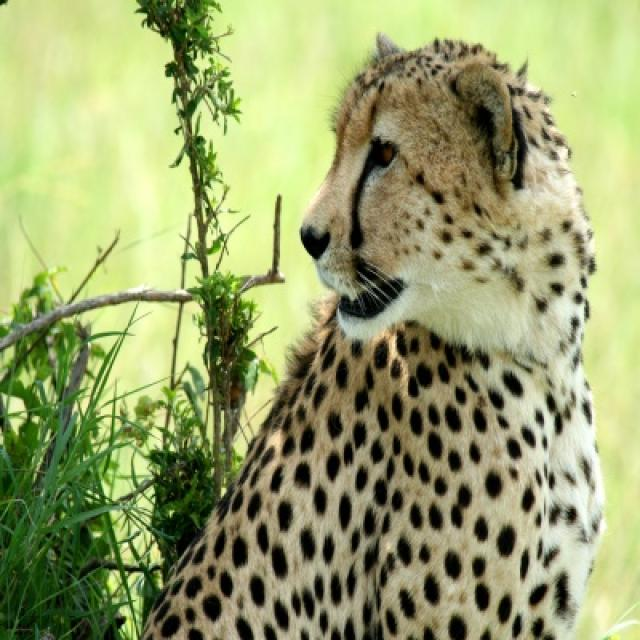Cheetah: (138, 32, 606, 638)
